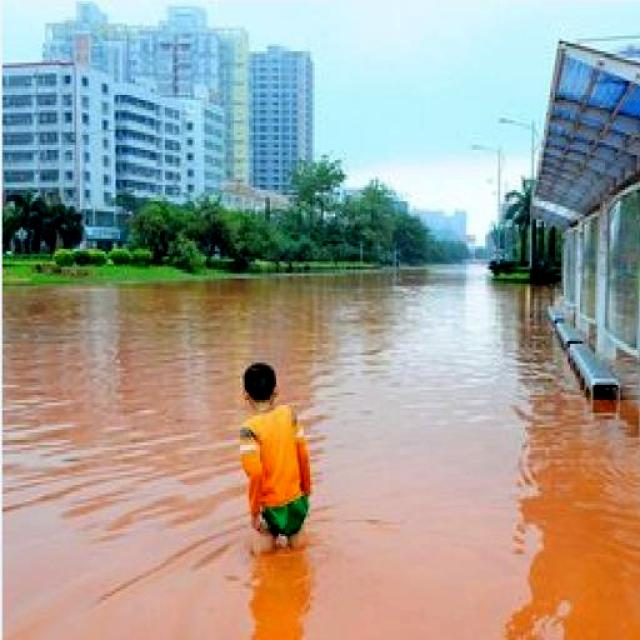civilian: (230, 356, 322, 562)
